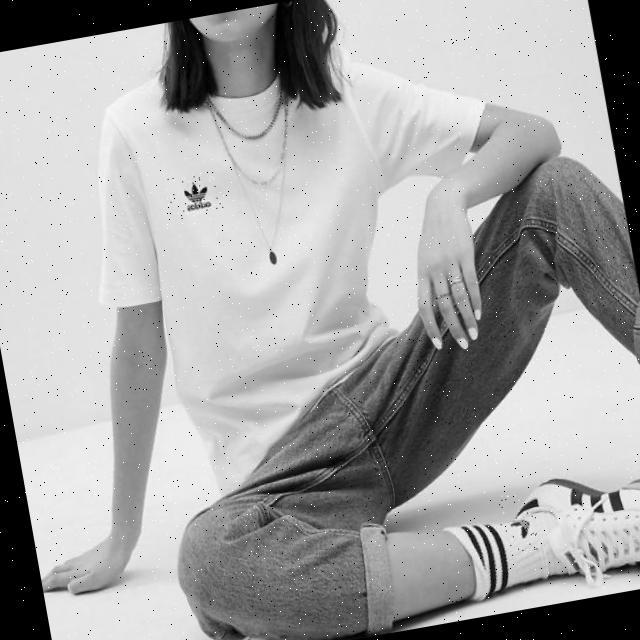Adidas: (495, 489, 542, 558), (163, 169, 224, 221)
